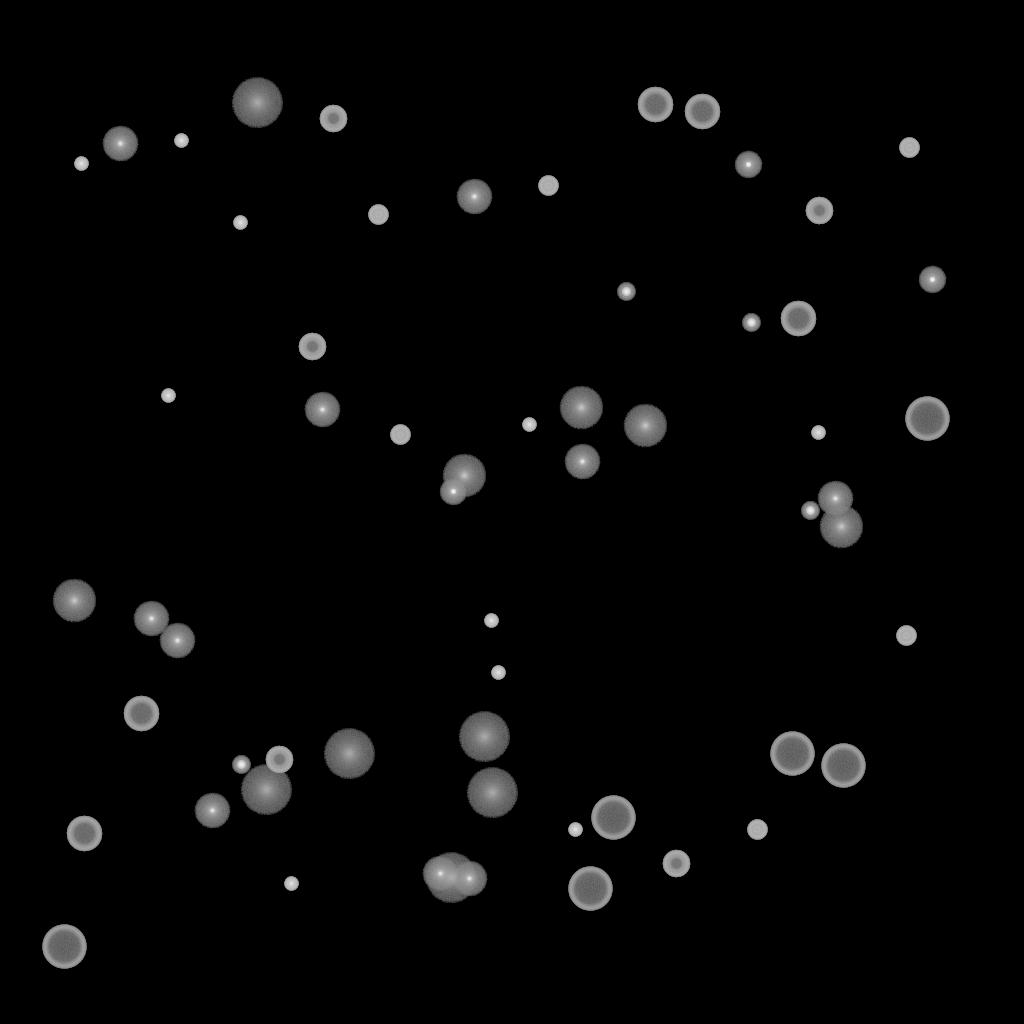depth:-10: (734, 151, 762, 179), (918, 266, 946, 294), (439, 478, 467, 506)
depth:-20: (232, 756, 250, 774), (617, 283, 635, 301), (742, 314, 760, 332), (801, 502, 819, 520)
depth:-30: (284, 877, 298, 891), (491, 666, 505, 680), (522, 418, 536, 432), (174, 134, 188, 148), (811, 426, 825, 440), (484, 614, 498, 628), (233, 216, 247, 230), (74, 157, 88, 171), (161, 389, 175, 403), (568, 823, 582, 837)
depth:-40: (390, 425, 410, 445), (899, 138, 919, 158), (896, 626, 916, 646), (747, 820, 767, 840), (368, 205, 388, 225), (538, 176, 558, 196)
depth:-50: (662, 850, 690, 878), (319, 105, 347, 133), (805, 197, 833, 225), (265, 746, 293, 774), (298, 333, 326, 361)
depth:-60: (684, 94, 720, 130), (66, 816, 102, 852), (637, 87, 673, 123), (123, 696, 159, 732), (780, 301, 816, 337)
depth:-70: (905, 397, 949, 441), (770, 732, 814, 776), (591, 796, 635, 840), (568, 867, 612, 911), (42, 925, 86, 969), (821, 744, 865, 788)
depth:0: (102, 126, 138, 162), (564, 444, 600, 480), (817, 481, 853, 517), (304, 392, 340, 428), (422, 856, 458, 892), (133, 601, 169, 637), (194, 793, 230, 829), (159, 623, 195, 659), (456, 179, 492, 215), (451, 861, 487, 897)
depth:10: (559, 386, 603, 430), (819, 505, 863, 549), (623, 404, 667, 448), (442, 454, 486, 498), (52, 579, 96, 623)
depth:20: (240, 765, 292, 815), (458, 712, 510, 762), (231, 78, 283, 128), (425, 853, 477, 903), (466, 768, 518, 818), (323, 729, 375, 779)
